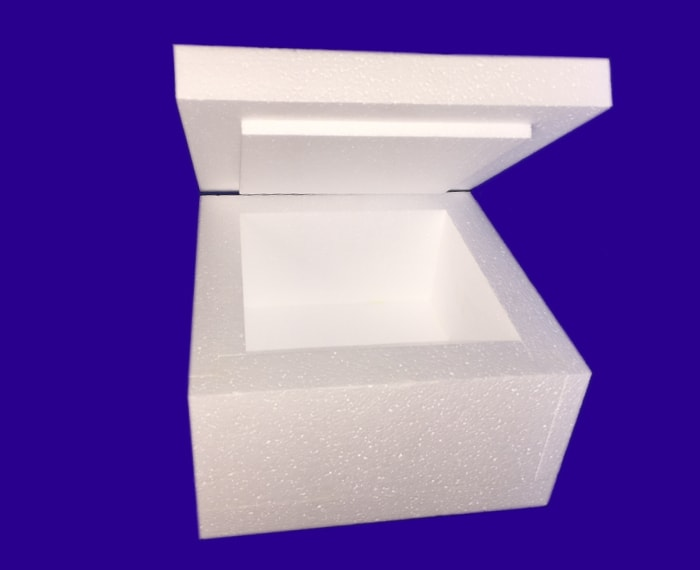泡沫箱: (174, 45, 611, 538)
